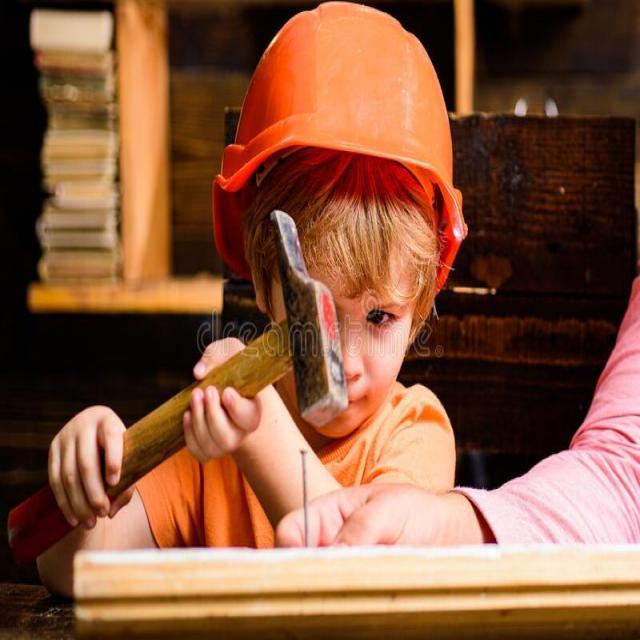hammer: (3, 208, 351, 582)
